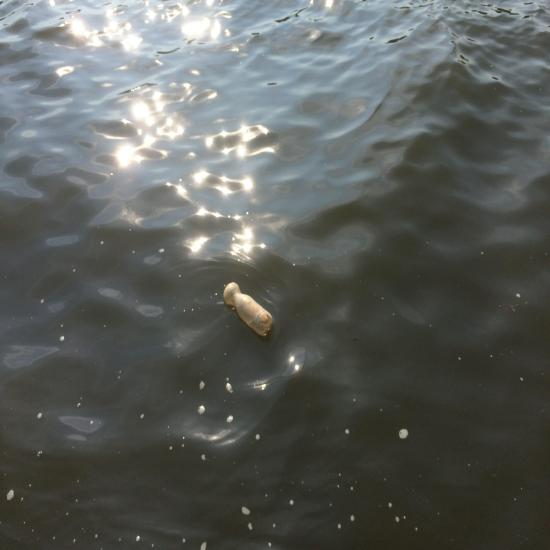Clear plastic bottle: (224, 282, 273, 335)
